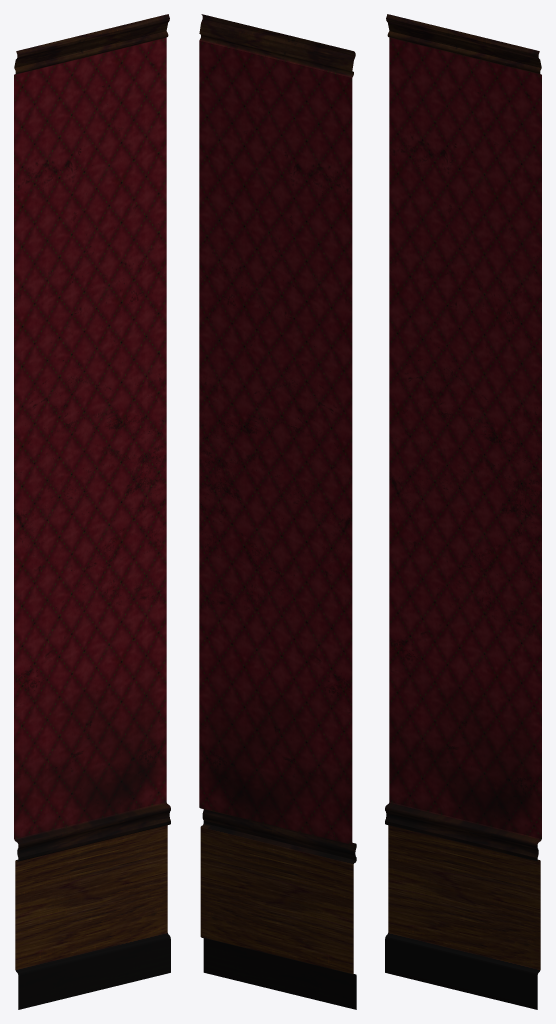
File: Mod_Wall_A_1x6.fbx
3 views of the same model, side by side, from view 1: azimuth 30°, elevation 25°; view 2: azimuth 150°, elevation 25°; view 3: azimuth 330°, elevation 25° (orthographic).
Visible parts, largest first — view 1: Mod_Wall_A_1x6; view 2: Mod_Wall_A_1x6; view 3: Mod_Wall_A_1x6.
Boxes of the visible parts, x1=… form: Mod_Wall_A_1x6: x1=14, y1=14, x2=170, y2=1009; Mod_Wall_A_1x6: x1=199, y1=14, x2=356, y2=1009; Mod_Wall_A_1x6: x1=385, y1=14, x2=541, y2=1009.
Size of the model in its own units: 100 by 600 by 5.
Materials: 1 (1 with a texture image).
